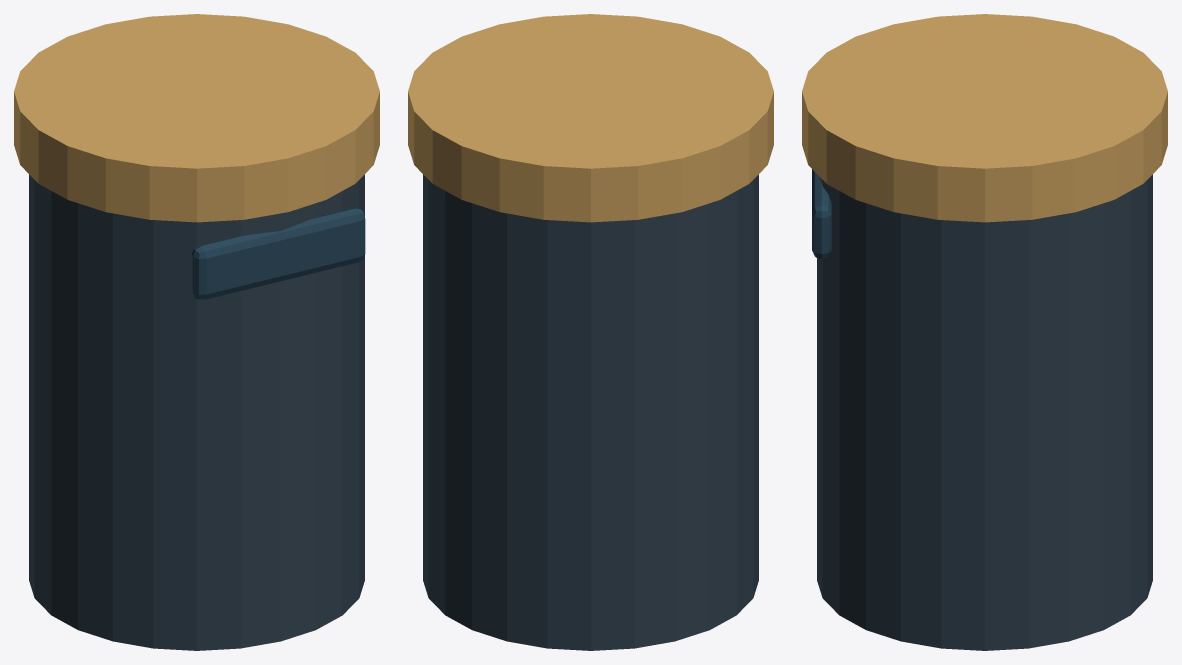
The model's file is SM_Bin.fbx.
3 views of the same model, side by side, from view 1: azimuth 30°, elevation 25°; view 2: azimuth 150°, elevation 25°; view 3: azimuth 270°, elevation 25° (orthographic).
Parts seen in each view (by area): view 1: SM_Bin; view 2: SM_Bin; view 3: SM_Bin.
Boxes of the visible parts, x1,y1,x2,y2 form: SM_Bin: (14,14,379,650); SM_Bin: (408,14,773,650); SM_Bin: (802,14,1167,650).
Size of the model in its own units: 74 by 74 by 109.
